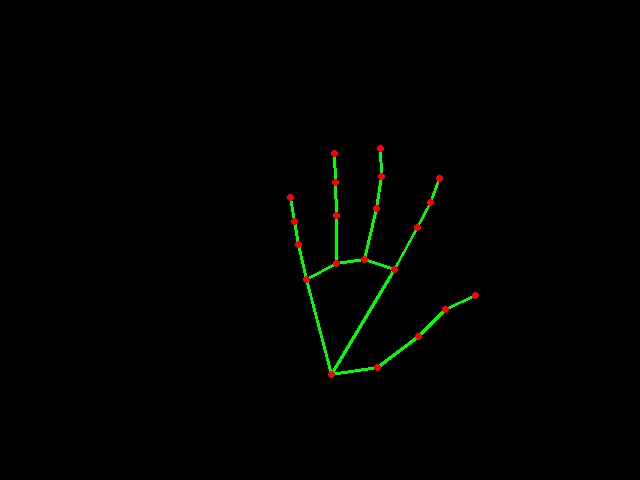stop: (268, 129, 488, 386)
